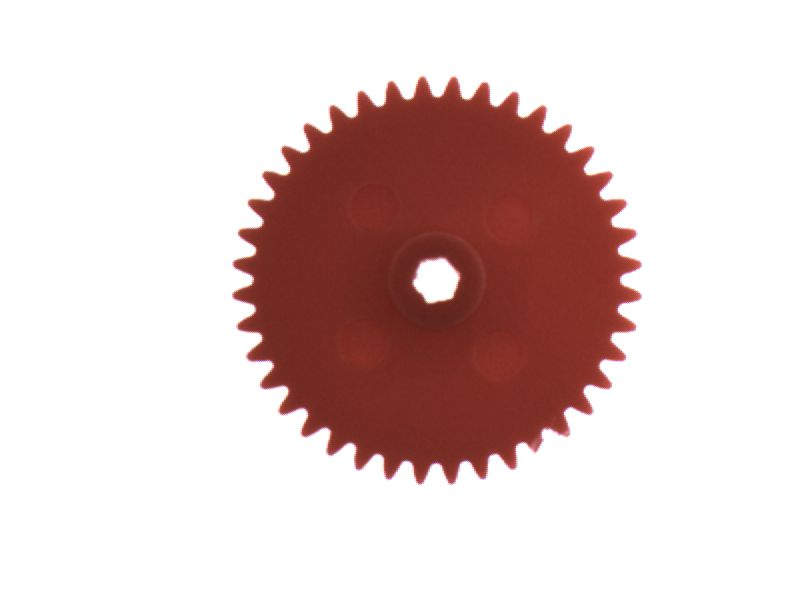defect_break: (513, 425, 562, 467)
